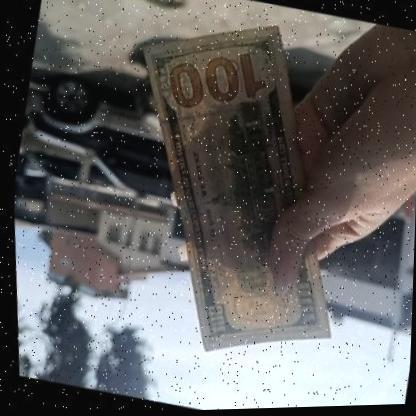dollar_back: (72, 0, 392, 387)
